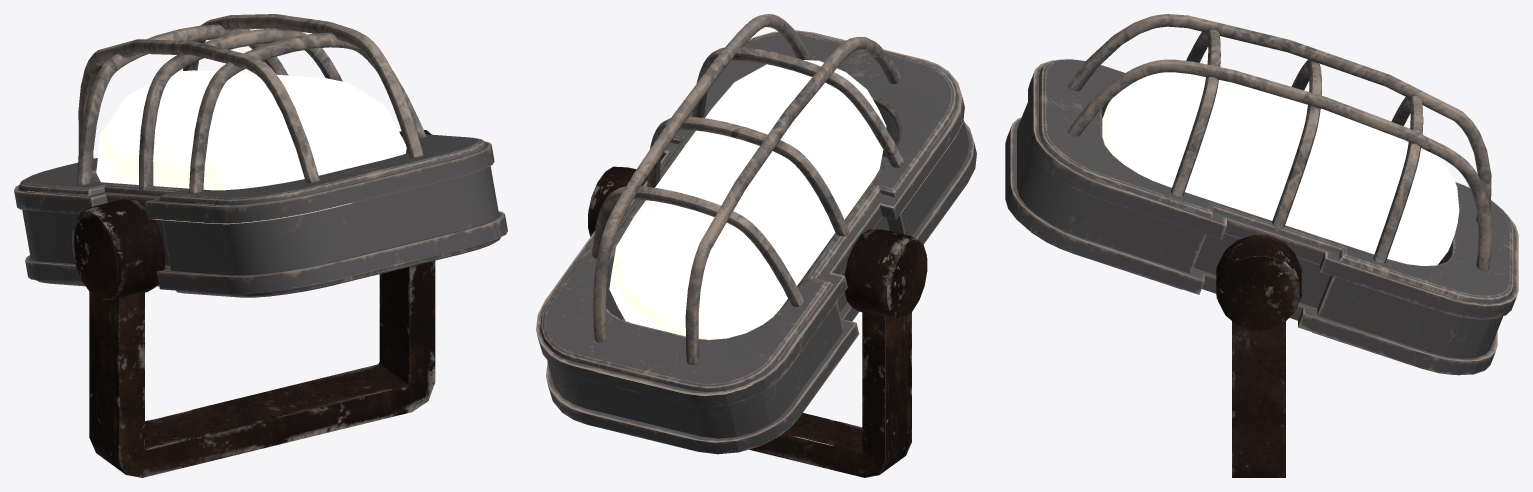
The picture shows the model from 3 angles, left to right: view 1: azimuth 30°, elevation 25°; view 2: azimuth 150°, elevation 25°; view 3: azimuth 270°, elevation 25°; orthographic projection. The views are drawn at different scales.
Parts seen in each view (by area): view 1: Lamp; view 2: Lamp; view 3: Lamp.
Boxes of the visible parts, <box> form: Lamp: <box>14,14,507,477</box>; Lamp: <box>536,14,976,477</box>; Lamp: <box>1005,14,1518,477</box>.
Size of the model in its own units: 0.525 by 0.6243 by 0.7632.
1 material, 1 textured.
